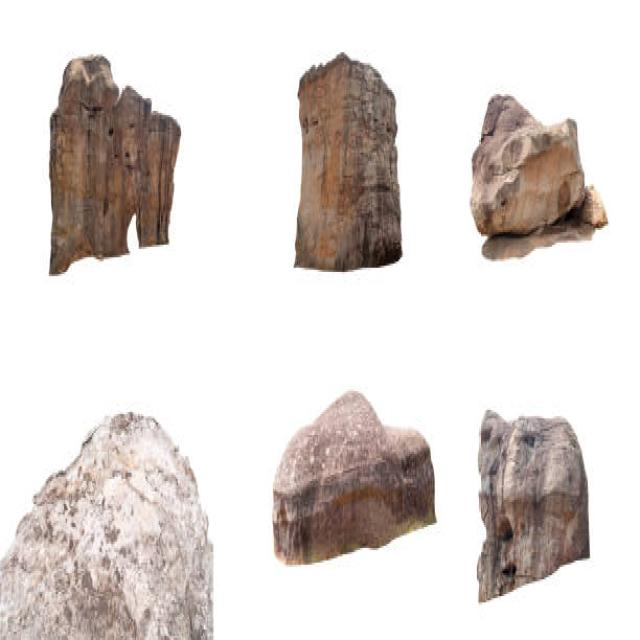Metamorphic: (5, 399, 218, 640), (264, 377, 442, 575), (48, 48, 183, 293), (290, 52, 413, 276), (474, 399, 595, 617), (462, 94, 607, 270)
